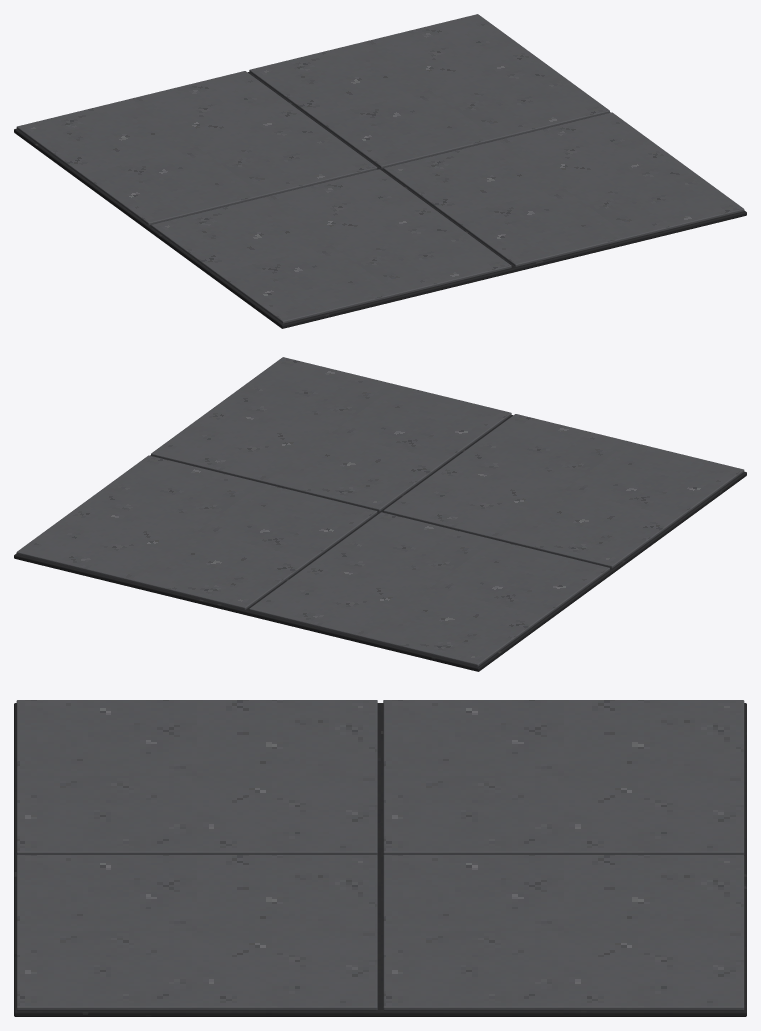
The model's file is lbd_floor_calm.glb.
3 renders of one model, top to bottom at view 1: azimuth 30°, elevation 25°; view 2: azimuth 150°, elevation 25°; view 3: azimuth 270°, elevation 25°, orthographic. The views are drawn at different scales.
Parts seen in each view (by area): view 1: floor_calm__matte tile_012, floor_calm__matte tile_006, floor_calm__matte tile_009, floor_calm__matte tile_015, floor_calm__substrate_003; view 2: floor_calm__matte tile_015, floor_calm__matte tile_009, floor_calm__matte tile_006, floor_calm__matte tile_012, floor_calm__substrate_003; view 3: floor_calm__matte tile_012, floor_calm__matte tile_015, floor_calm__matte tile_006, floor_calm__matte tile_009, floor_calm__substrate_003.
Part boxes in pixels (bbox=[...]): floor_calm__matte tile_012: bbox=[383, 112, 744, 266]; floor_calm__matte tile_006: bbox=[151, 169, 511, 323]; floor_calm__matte tile_009: bbox=[16, 71, 377, 225]; floor_calm__matte tile_015: bbox=[249, 14, 609, 168]; floor_calm__substrate_003: bbox=[14, 72, 746, 328]; floor_calm__matte tile_015: bbox=[16, 455, 377, 609]; floor_calm__matte tile_009: bbox=[249, 512, 609, 666]; floor_calm__matte tile_006: bbox=[383, 414, 744, 568]; floor_calm__matte tile_012: bbox=[151, 357, 511, 511]; floor_calm__substrate_003: bbox=[14, 415, 746, 671]; floor_calm__matte tile_012: bbox=[16, 855, 377, 1010]; floor_calm__matte tile_015: bbox=[383, 855, 744, 1010]; floor_calm__matte tile_006: bbox=[16, 700, 377, 854]; floor_calm__matte tile_009: bbox=[383, 700, 744, 854]; floor_calm__substrate_003: bbox=[14, 703, 746, 1016].
Size of the model in its own units: 2 by 0.028 by 2.
Materials: 2 (2 with a texture image).
